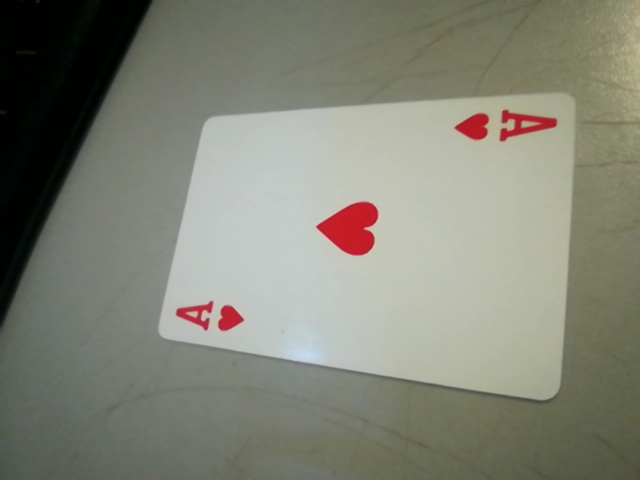hx a: (448, 106, 551, 146)
